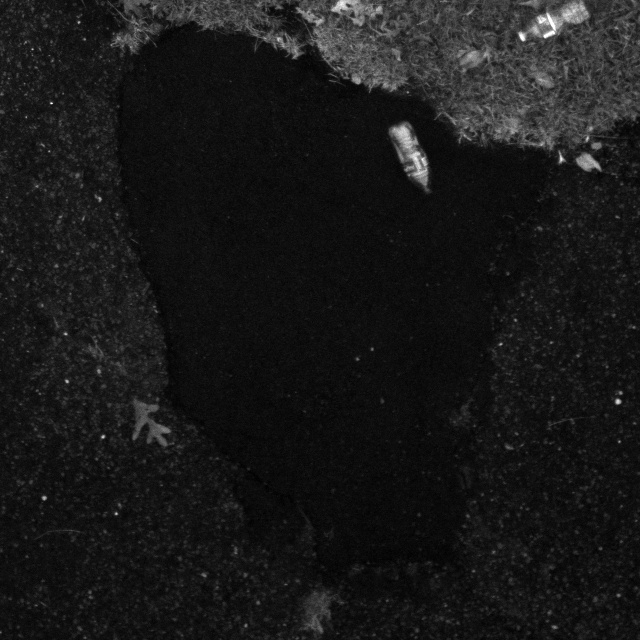bottle: (382, 114, 436, 198)
